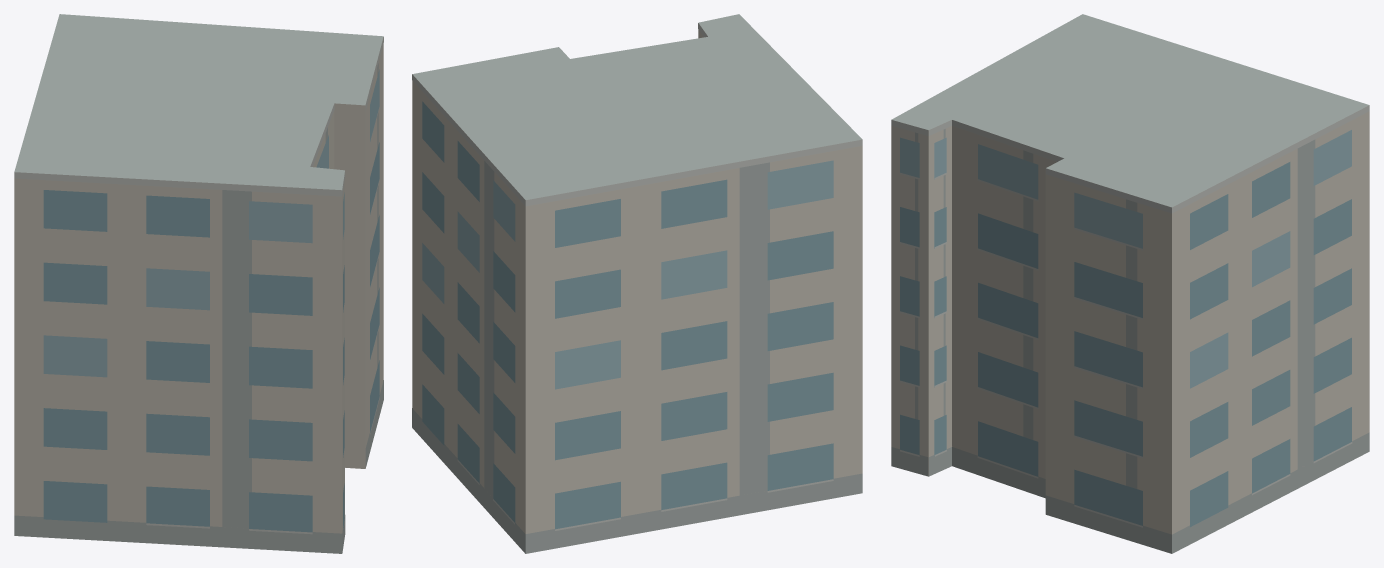
The model's file is survey-upis-33028031.glb.
3 views of the same model, side by side, from view 1: azimuth 30°, elevation 25°; view 2: azimuth 150°, elevation 25°; view 3: azimuth 270°, elevation 25° (orthographic). The views are drawn at different scales.
Parts seen in each view (by area): view 1: survey-upis-33028031.tmp; view 2: survey-upis-33028031.tmp; view 3: survey-upis-33028031.tmp.
Boxes of the visible parts, <box> form: survey-upis-33028031.tmp: <box>14,14,383,553</box>; survey-upis-33028031.tmp: <box>412,14,862,553</box>; survey-upis-33028031.tmp: <box>891,14,1369,553</box>.
Bounding box in the file's own units: 16.78 × 14 × 17.53.
